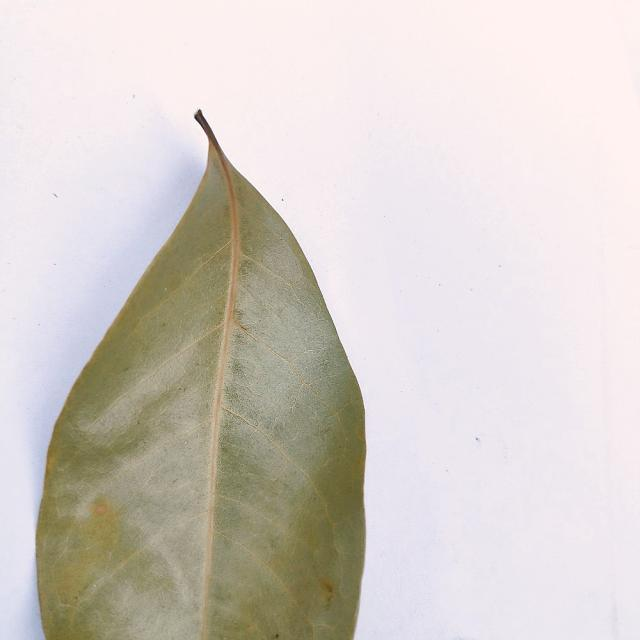Dry_Leaf-Lychee: (35, 113, 368, 639)
